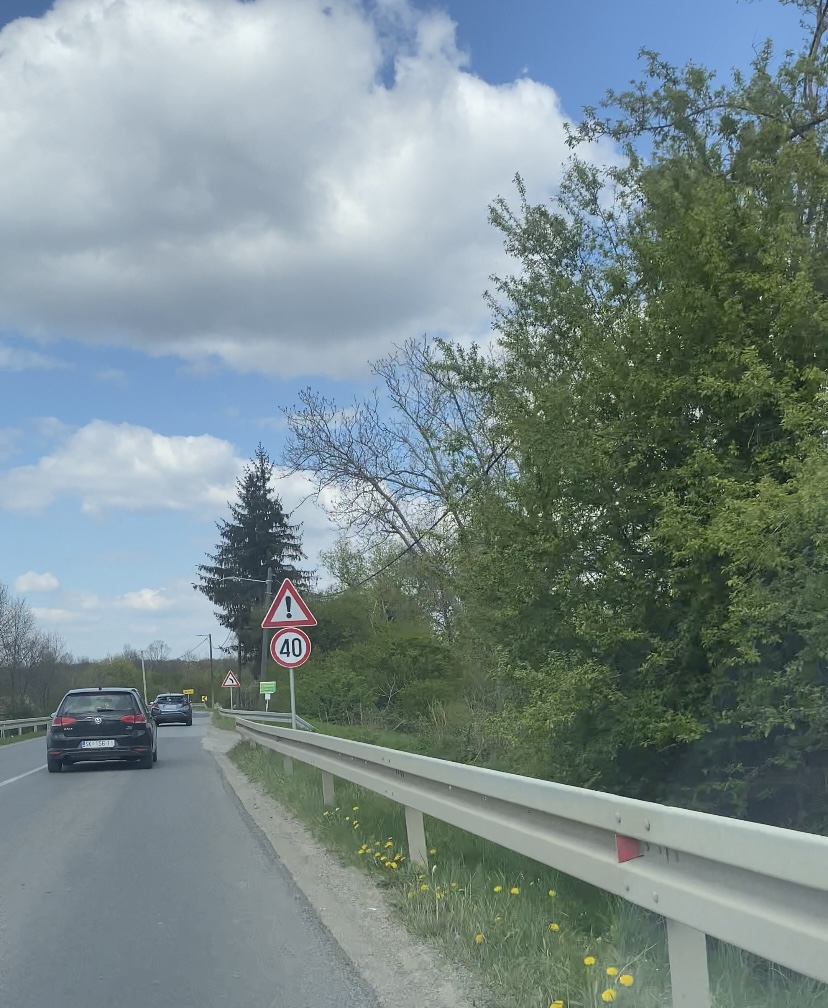Ograničenje brzine 40: (270, 628, 312, 668)
